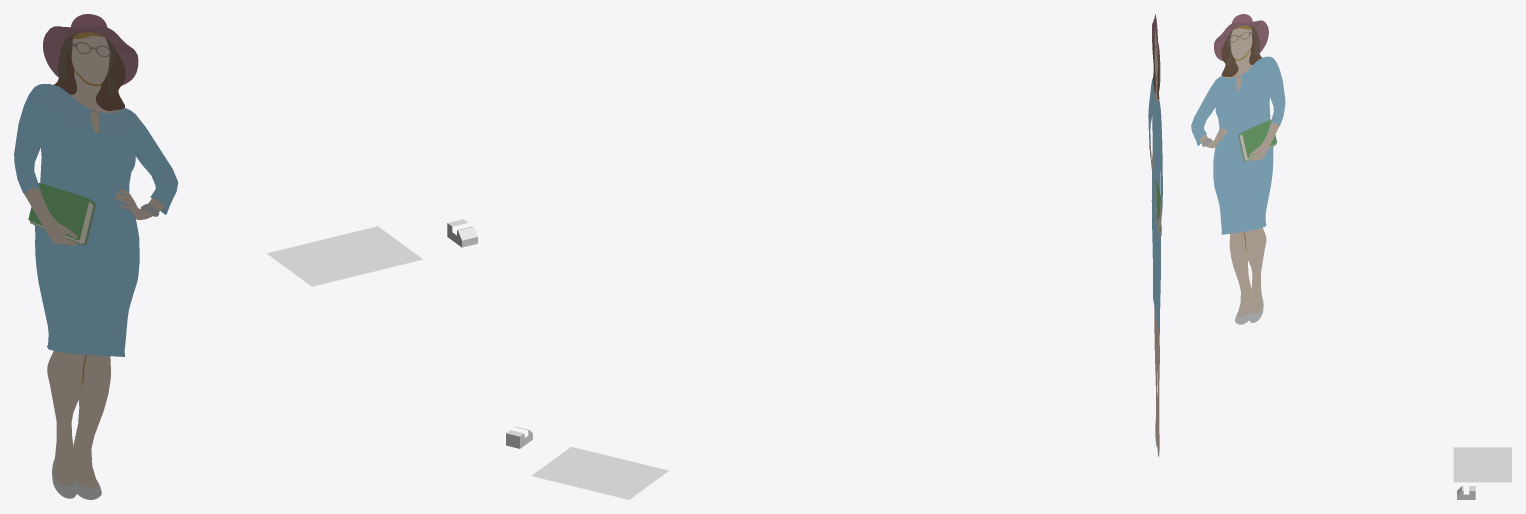
Rendered from Isometri1.glb.
3 views of the same model, side by side, from view 1: azimuth 30°, elevation 25°; view 2: azimuth 150°, elevation 25°; view 3: azimuth 270°, elevation 25° (orthographic). The views are drawn at different scales.
Parts seen in each view (by area): view 1: Geom3D (×10), Geom3D_; view 2: Geom3D_, Geom3D (×2); view 3: Geom3D (×6), Geom3D_.
Part boxes in pixels (left/top/right/bottom): Geom3D (×10): left=14, top=26, right=477, bottom=499; Geom3D_: left=267, top=226, right=422, bottom=286; Geom3D_: left=532, top=446, right=668, bottom=499; Geom3D (×2): left=1148, top=30, right=1162, bottom=446; Geom3D (×6): left=1191, top=20, right=1285, bottom=316; Geom3D_: left=1453, top=447, right=1511, bottom=482.
Size of the model in its own units: 2.25 by 1.76 by 1.64.
